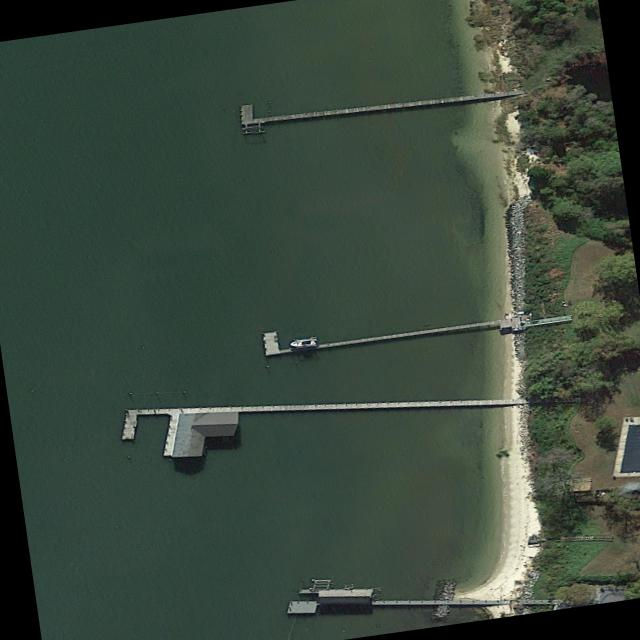ship: (290, 337, 317, 348)
